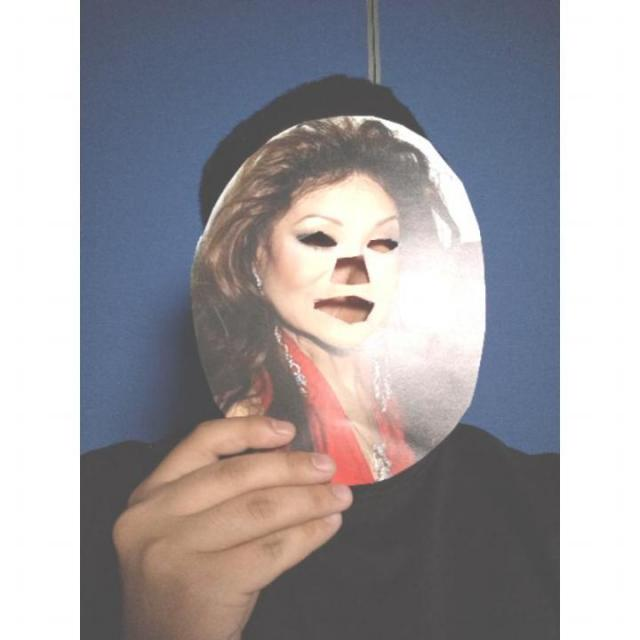mask: (188, 111, 490, 491)
